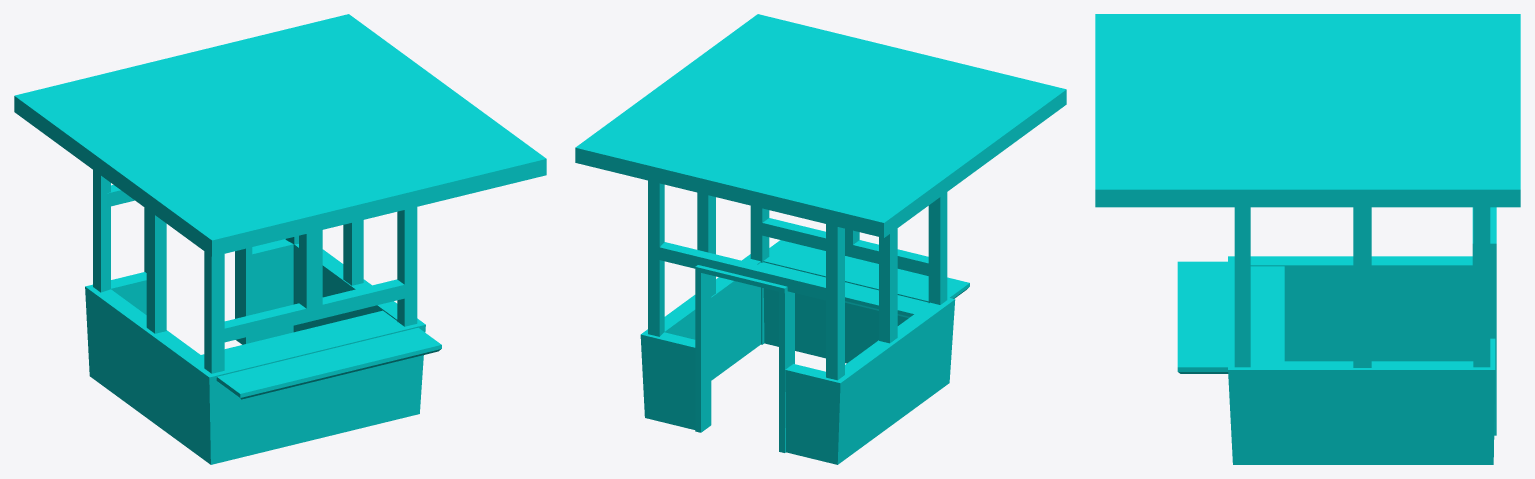
The model's file is SM_Prop_Ticket_Booth_01_Collision.fbx.
The picture shows the model from 3 angles, left to right: view 1: azimuth 30°, elevation 25°; view 2: azimuth 150°, elevation 25°; view 3: azimuth 270°, elevation 25°; orthographic projection. The views are drawn at different scales.
Parts seen in each view (by area): view 1: SM_Prop_Ticket_Booth_01_Collision; view 2: SM_Prop_Ticket_Booth_01_Collision; view 3: SM_Prop_Ticket_Booth_01_Collision.
Boxes of the visible parts, <box> form: SM_Prop_Ticket_Booth_01_Collision: <box>14,14,546,464</box>; SM_Prop_Ticket_Booth_01_Collision: <box>575,14,1066,464</box>; SM_Prop_Ticket_Booth_01_Collision: <box>1095,14,1520,464</box>.
Size of the model in its own units: 397 by 325 by 407.
